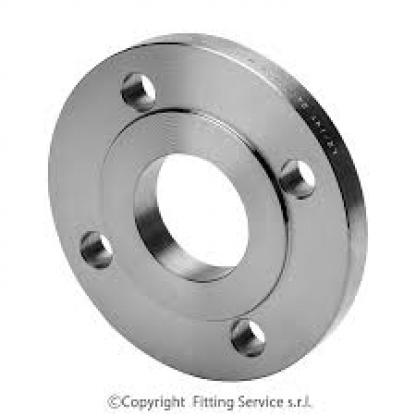FOD: (43, 32, 367, 386)
